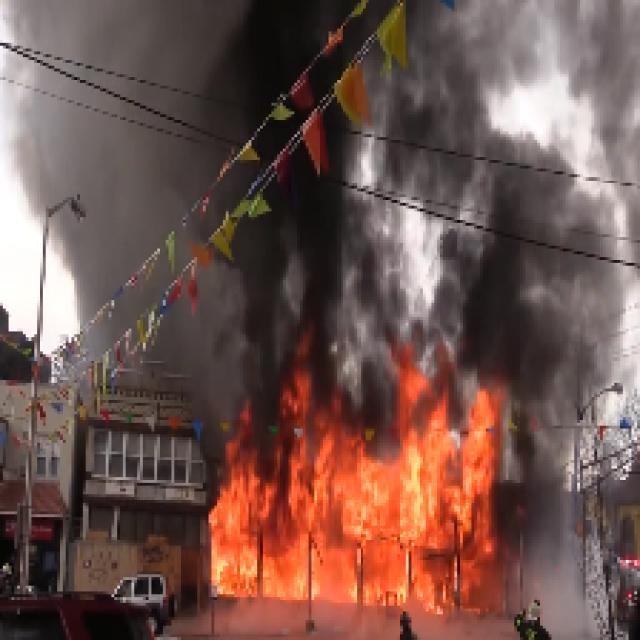Fire: (200, 447, 488, 614)
Smoke: (60, 10, 312, 383), (414, 18, 636, 333)
